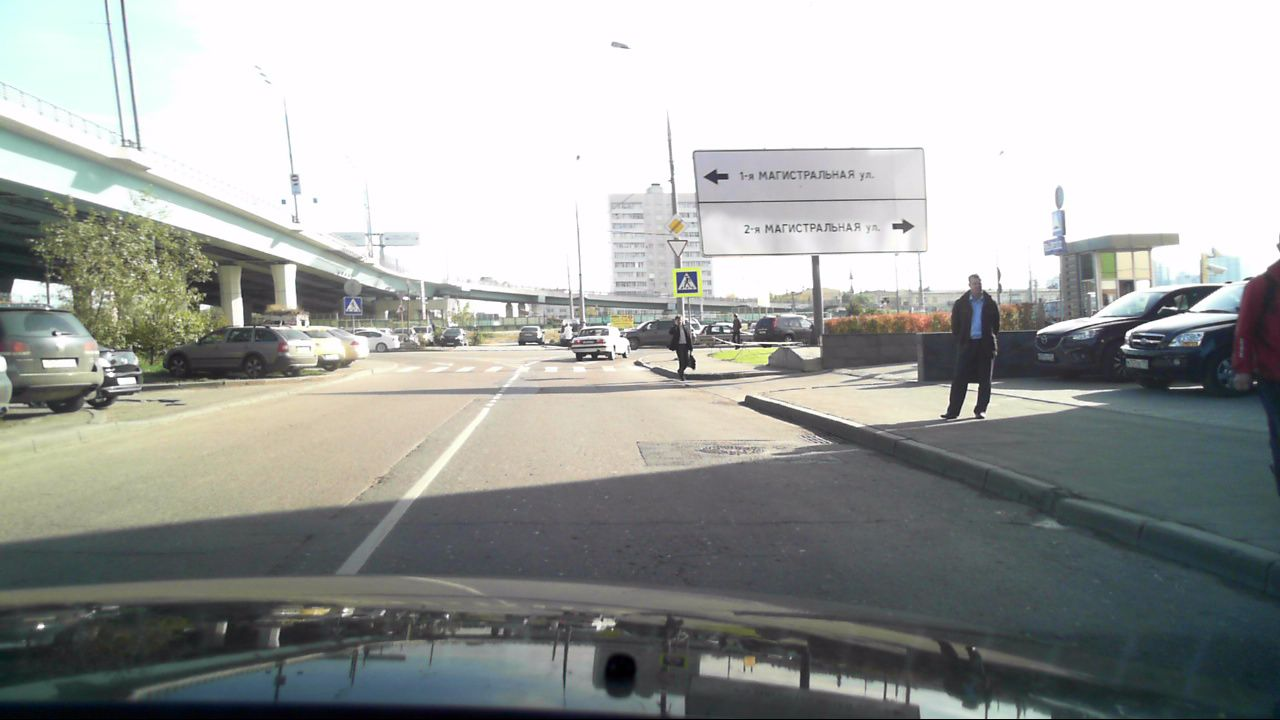main road: (665, 211, 689, 236)
